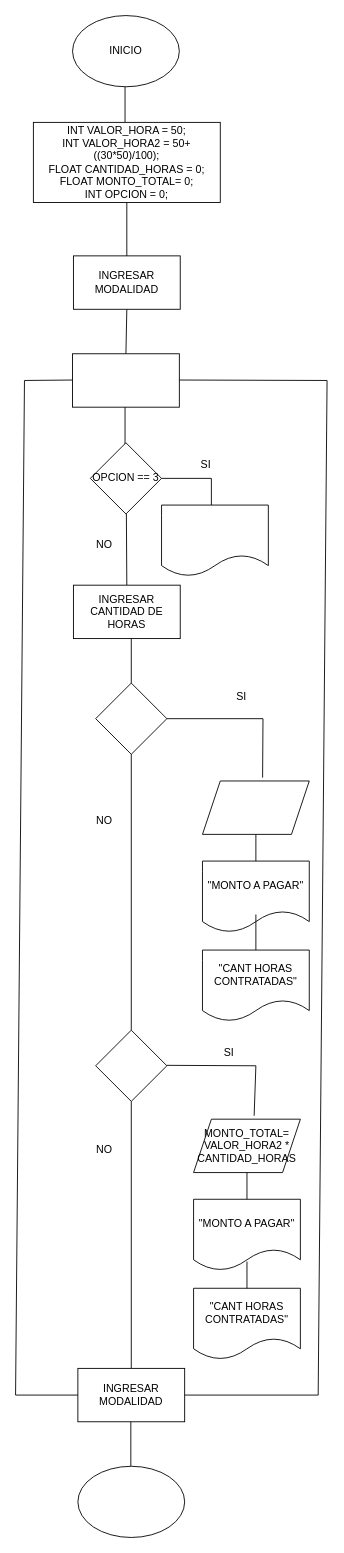
The diagram is 344 pixels wide and 1553 high, and some of its shapes have lost their labels. Here are the shapes that lost their labels. From the top down, the centre of each, then its label:
point 125,380: OPCION != 3
point 214,540: "FIN DEL PROGRAMA"
point 131,718: OPCION == 1
point 255,807: MONTO_TOTAL= VALOR_HORA * CANTIDAD_HORAS
point 131,1065: OPCION == 2
point 131,1501: FIN
